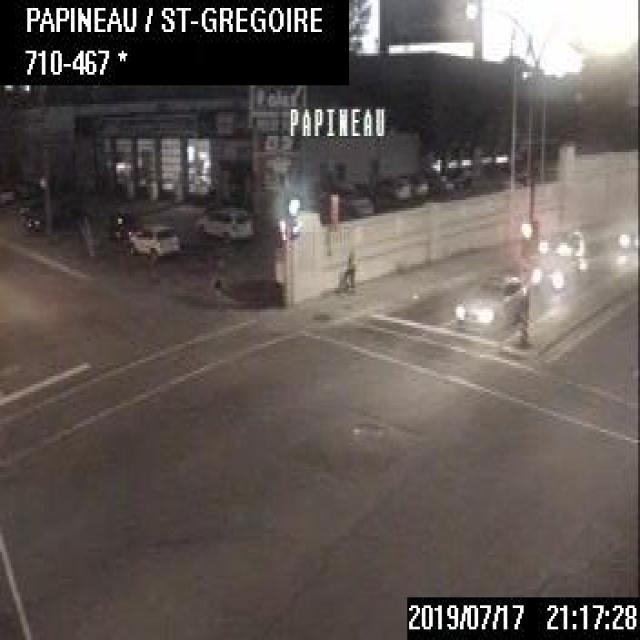pedestrian: (334, 244, 355, 291)
vehicle: (451, 272, 525, 325), (195, 200, 257, 242), (126, 218, 178, 258), (530, 250, 573, 295), (537, 227, 593, 261), (616, 224, 638, 251)
